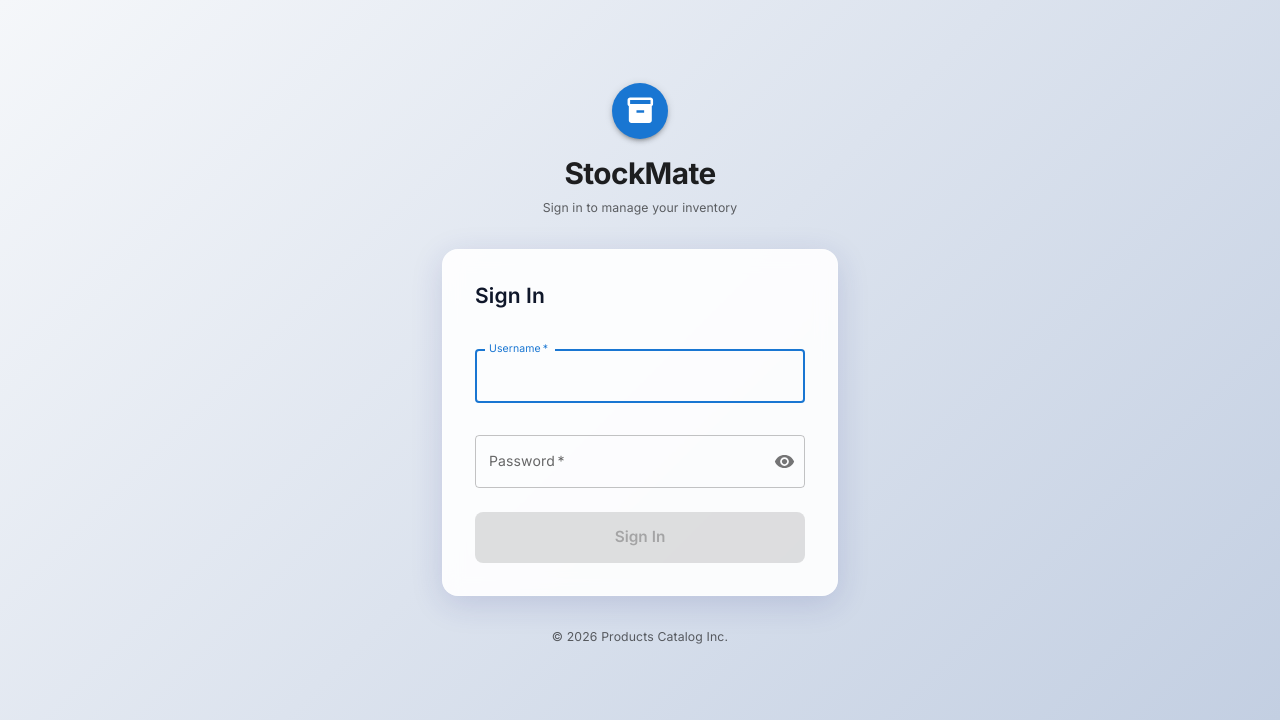
Test: LoginPage › enables submit after both credentials are entered
This screenshot has width=1280, height=720.
Type "admin" into the field labelled "Username *" at (640, 376), box [475,350,805,403]
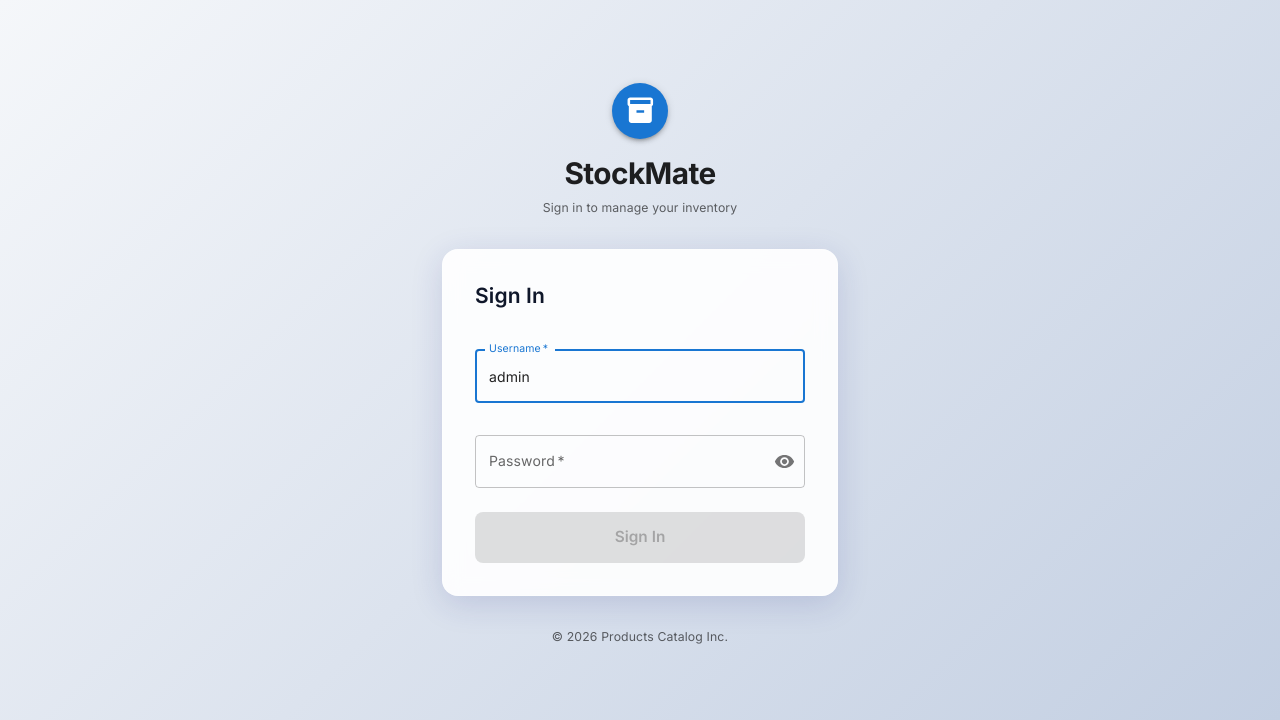
Type "password123" into the password field labelled "Password *" at (616, 461), box [475,435,758,488]
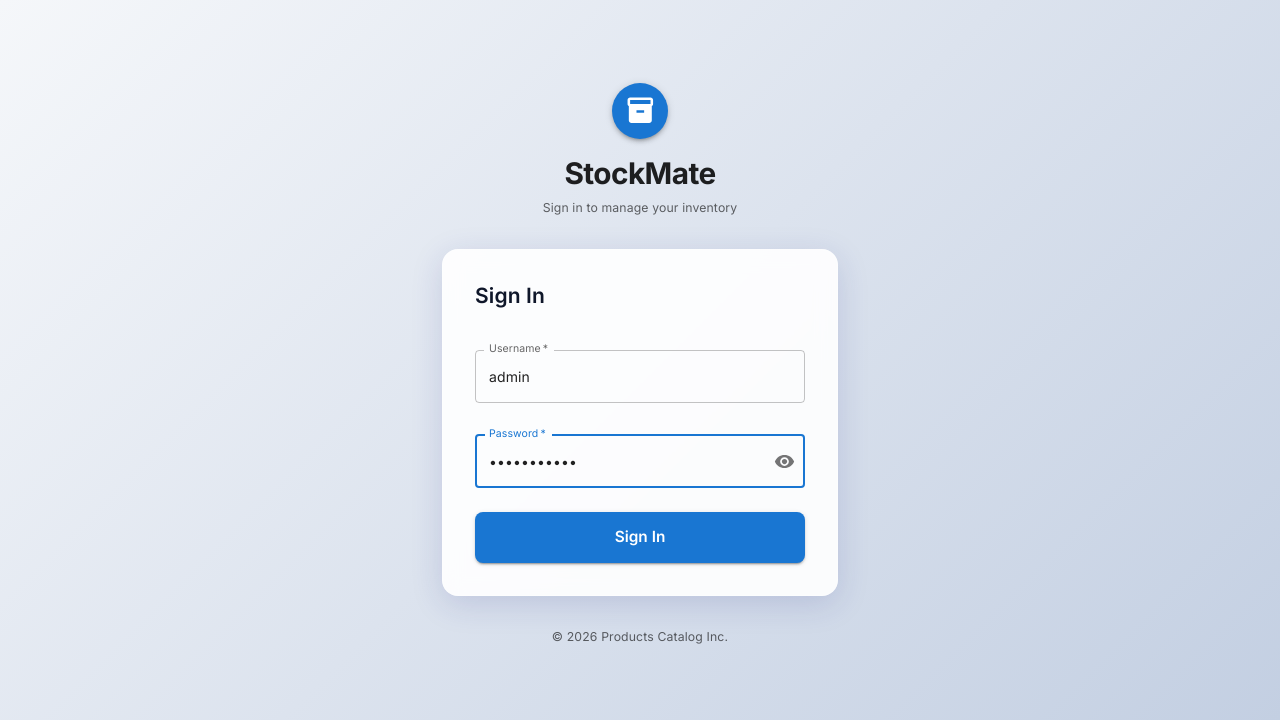
Check: the button "Sign In" is enabled, box [475,512,805,563]
